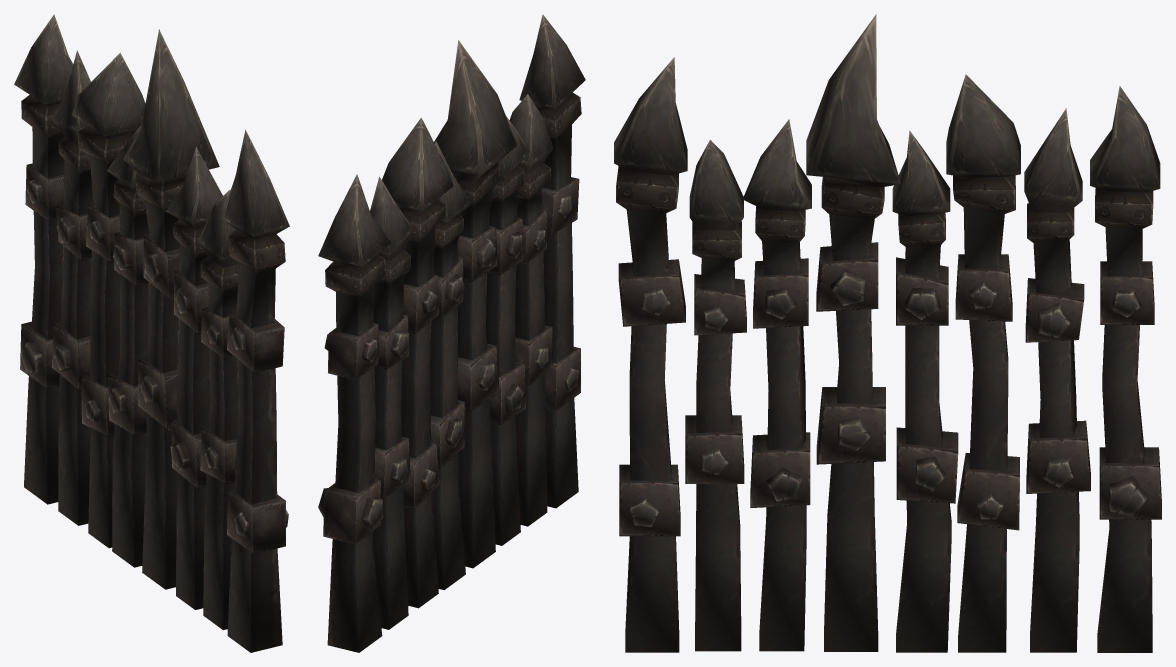
Rendered from Anmaodao_zhalan.FBX.
3 renders of one model, left to right at view 1: azimuth 30°, elevation 25°; view 2: azimuth 150°, elevation 25°; view 3: azimuth 270°, elevation 25°, orthographic. The views are drawn at different scales.
Parts seen in each view (by area): view 1: Anmaodao_zhalan; view 2: Anmaodao_zhalan; view 3: Anmaodao_zhalan.
Boxes of the visible parts, left/top/right/bottom form: Anmaodao_zhalan: left=14, top=14, right=289, bottom=652; Anmaodao_zhalan: left=318, top=14, right=585, bottom=652; Anmaodao_zhalan: left=614, top=14, right=1161, bottom=652.
Bounding box in the file's own units: 11.8 × 78.17 × 99.26.
